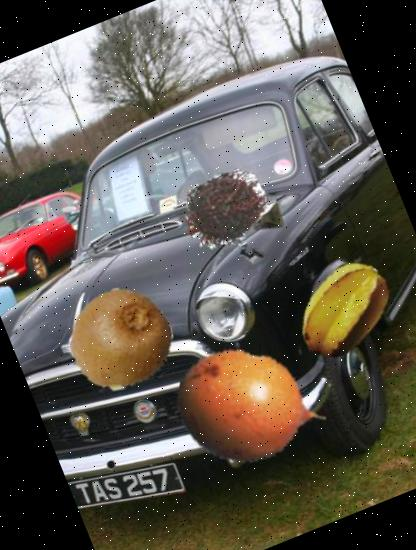Carambula: (275, 242, 413, 380)
Granadilla: (154, 310, 349, 505)
Kiwi: (54, 272, 189, 406)
Rambutan: (169, 154, 280, 265)
